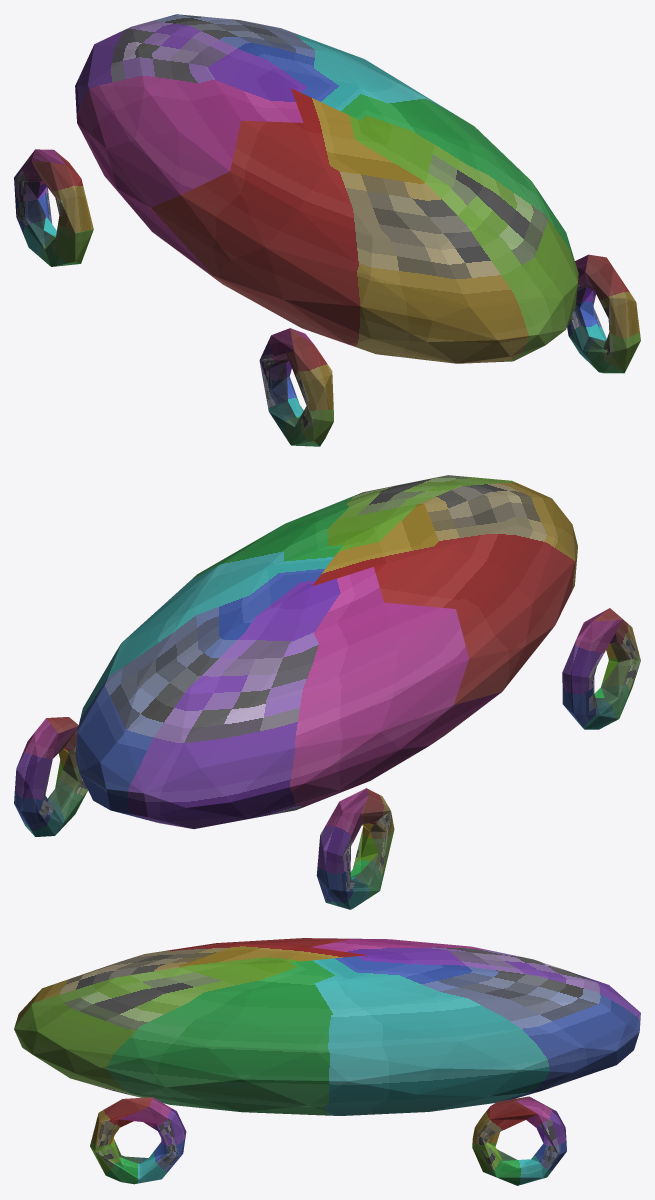
File: lod-pipeline-fixture-lod2.glb
The picture shows the model from 3 angles, top to bottom: view 1: azimuth 30°, elevation 25°; view 2: azimuth 150°, elevation 25°; view 3: azimuth 270°, elevation 25°; orthographic projection. The views are drawn at different scales.
Parts seen in each view (by area): view 1: Traffic_body, Traffic_RL, Traffic_FL, Traffic_FR; view 2: Traffic_body, Traffic_RL, Traffic_FL, Traffic_RR; view 3: Traffic_body, Traffic_FR, Traffic_RR.
Boxes of the visible parts, x1,y1,x2,y2 form: Traffic_body: (75,14,578,363); Traffic_RL: (14,149,93,266); Traffic_FL: (259,328,333,446); Traffic_FR: (567,254,640,373); Traffic_body: (75,475,577,828); Traffic_RL: (316,788,394,909); Traffic_FL: (562,608,640,729); Traffic_RR: (14,717,87,836); Traffic_body: (14,938,640,1115); Traffic_FR: (90,1097,186,1184); Traffic_RR: (472,1096,566,1185).
Size of the model in its own units: 2.19 by 1.36 by 4.6.
Materials: 1 (1 with a texture image).
